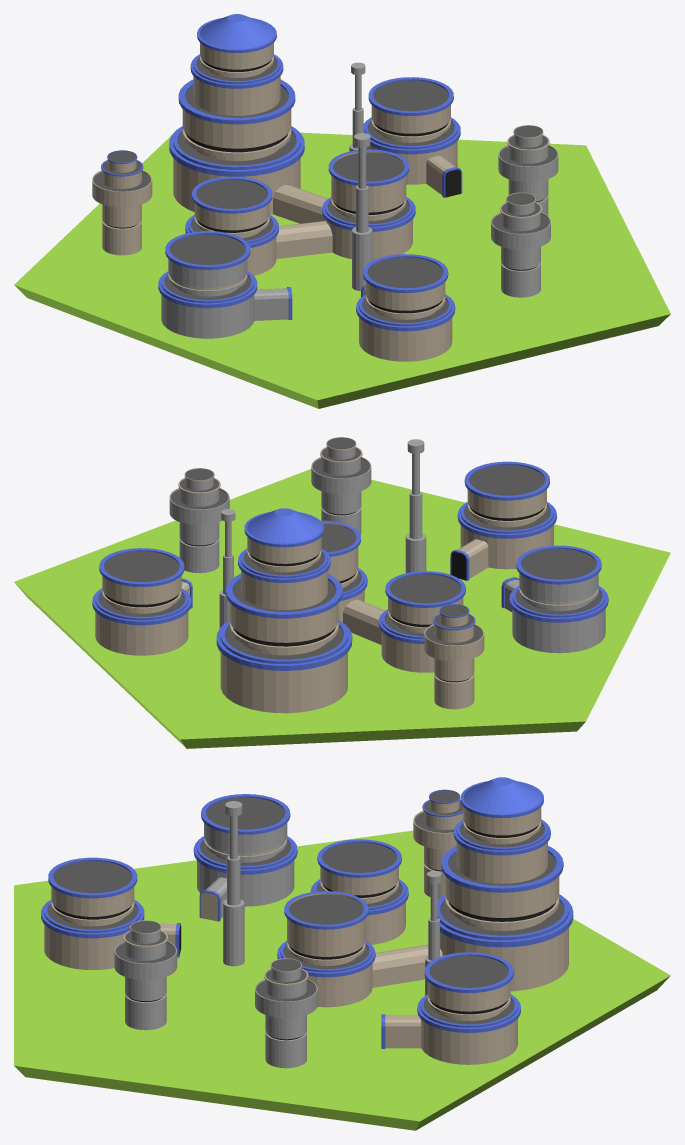
File: VilleX_1.fbx
3 renders of one model, top to bottom at view 1: azimuth 30°, elevation 25°; view 2: azimuth 150°, elevation 25°; view 3: azimuth 270°, elevation 25°, orthographic. The views are drawn at different scales.
Parts seen in each view (by area): view 1: Cite_x; view 2: Cite_x; view 3: Cite_x.
Boxes of the visible parts, <box> form: Cite_x: <box>14,14,670,408</box>; Cite_x: <box>14,437,670,748</box>; Cite_x: <box>14,777,670,1130</box>.
Bounding box in the file's own units: 111 × 34.83 × 105.
